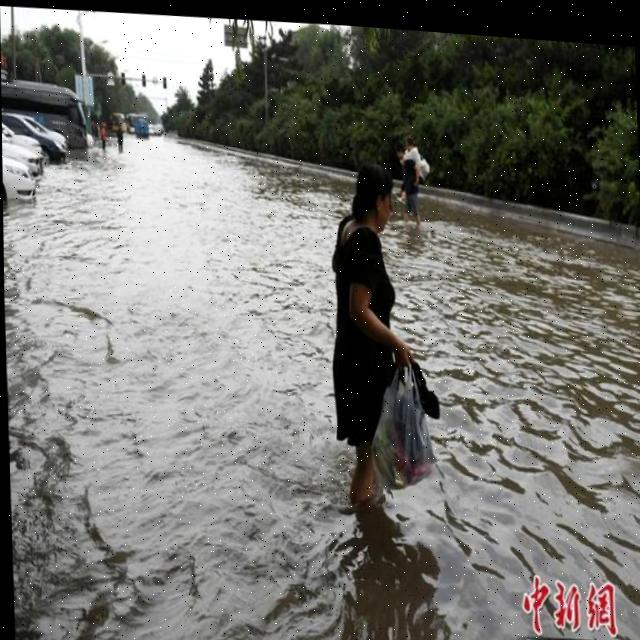civilian: (321, 156, 429, 527), (391, 135, 433, 205), (392, 145, 428, 226), (94, 117, 111, 158), (112, 118, 128, 156)
